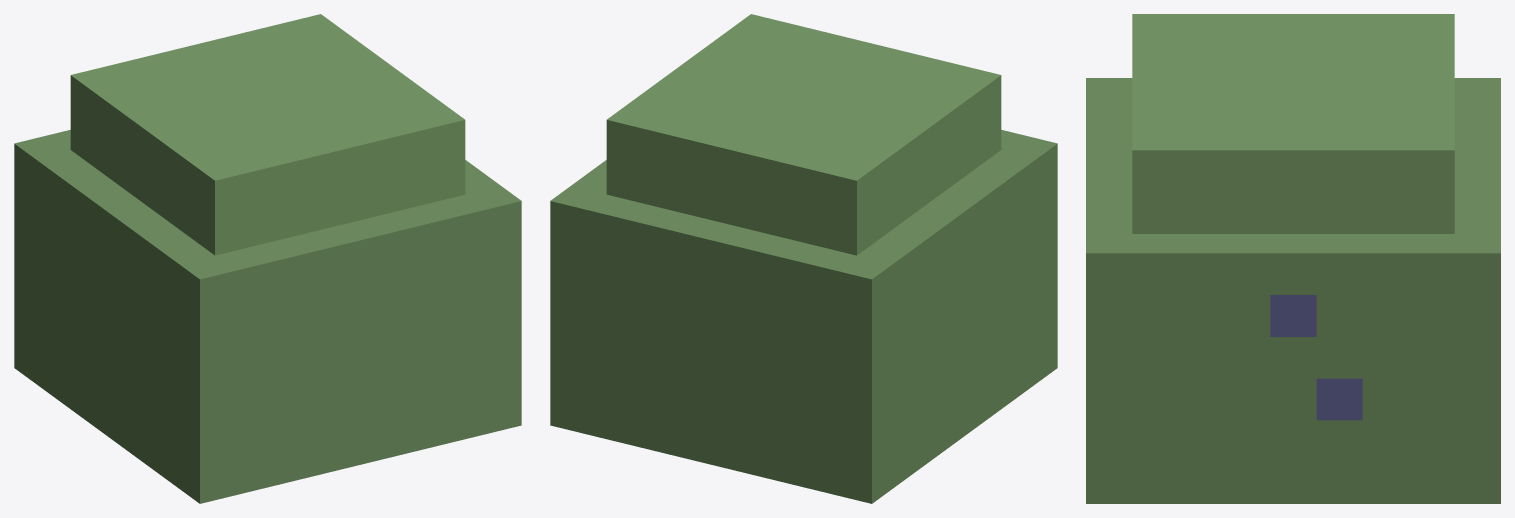
The model's file is arandano_02.glb.
The picture shows the model from 3 angles, left to right: view 1: azimuth 30°, elevation 25°; view 2: azimuth 150°, elevation 25°; view 3: azimuth 270°, elevation 25°; orthographic projection. The views are drawn at different scales.
Visible parts, largest first — view 1: arandano_02; view 2: arandano_02; view 3: arandano_02.
Boxes of the visible parts, x1,y1,x2,y2 form: arandano_02: [14, 14, 521, 503]; arandano_02: [550, 14, 1057, 503]; arandano_02: [1086, 14, 1500, 503].
Size of the model in its own units: 0.9 by 0.8 by 0.9.
